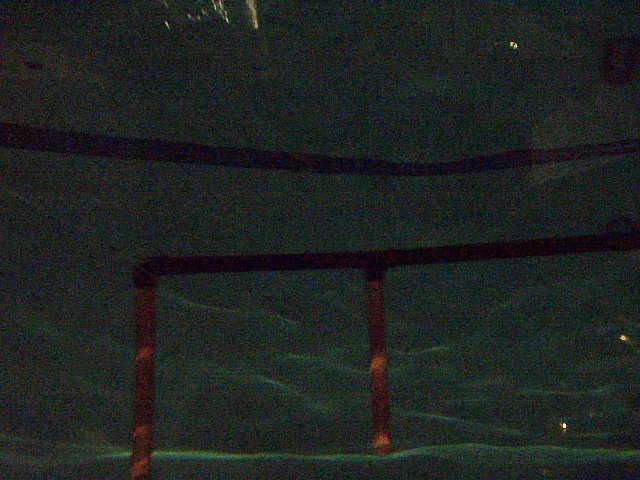Gate: (125, 284, 158, 480), (365, 271, 395, 460)
